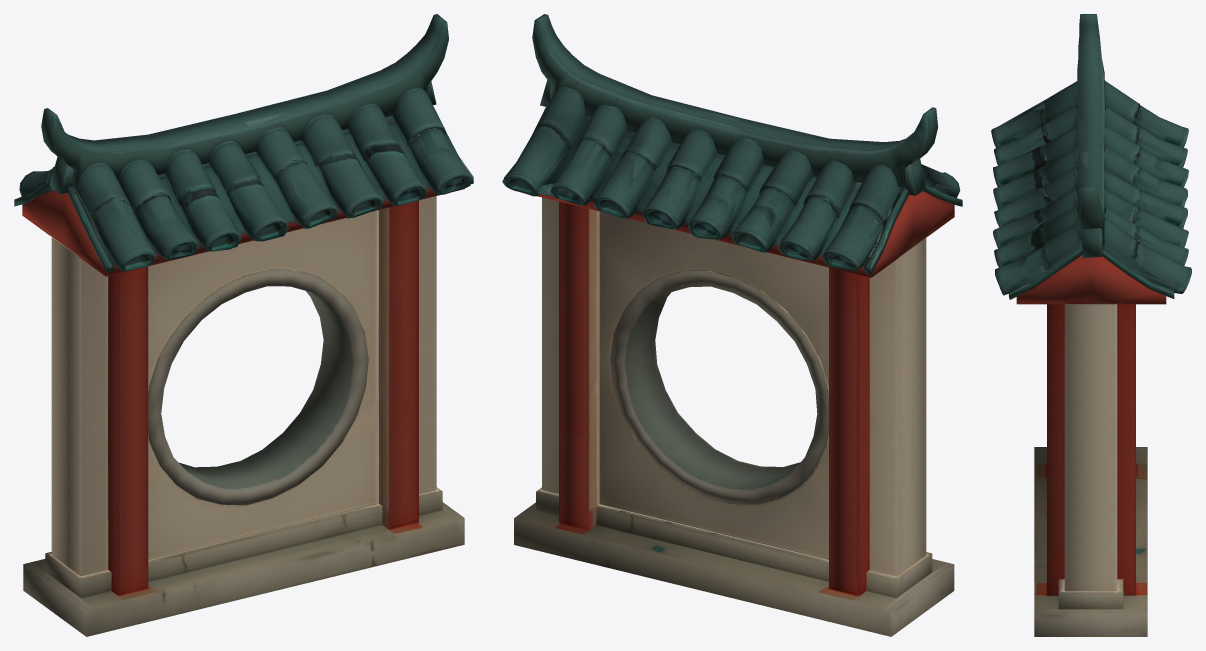
File: tripo_convert_457a37a5-de0a-43b9-9734-59e8679bfc7e.fbx
The picture shows the model from 3 angles, left to right: view 1: azimuth 30°, elevation 25°; view 2: azimuth 150°, elevation 25°; view 3: azimuth 270°, elevation 25°; orthographic projection. The views are drawn at different scales.
Visible parts, largest first — view 1: tripo_node_457a37a5; view 2: tripo_node_457a37a5; view 3: tripo_node_457a37a5.
Boxes of the visible parts, x1,y1,x2,y2 form: tripo_node_457a37a5: [14, 14, 473, 636]; tripo_node_457a37a5: [502, 14, 962, 636]; tripo_node_457a37a5: [991, 14, 1191, 636].
Size of the model in its own units: 0.8223 by 0.998 by 0.4004.
Materials: 1 (1 with a texture image).
